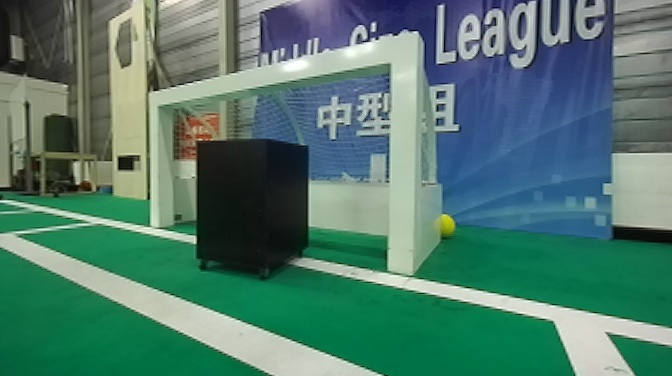ball: (435, 209, 455, 239)
goalpost: (383, 37, 430, 276), (146, 87, 175, 228)
